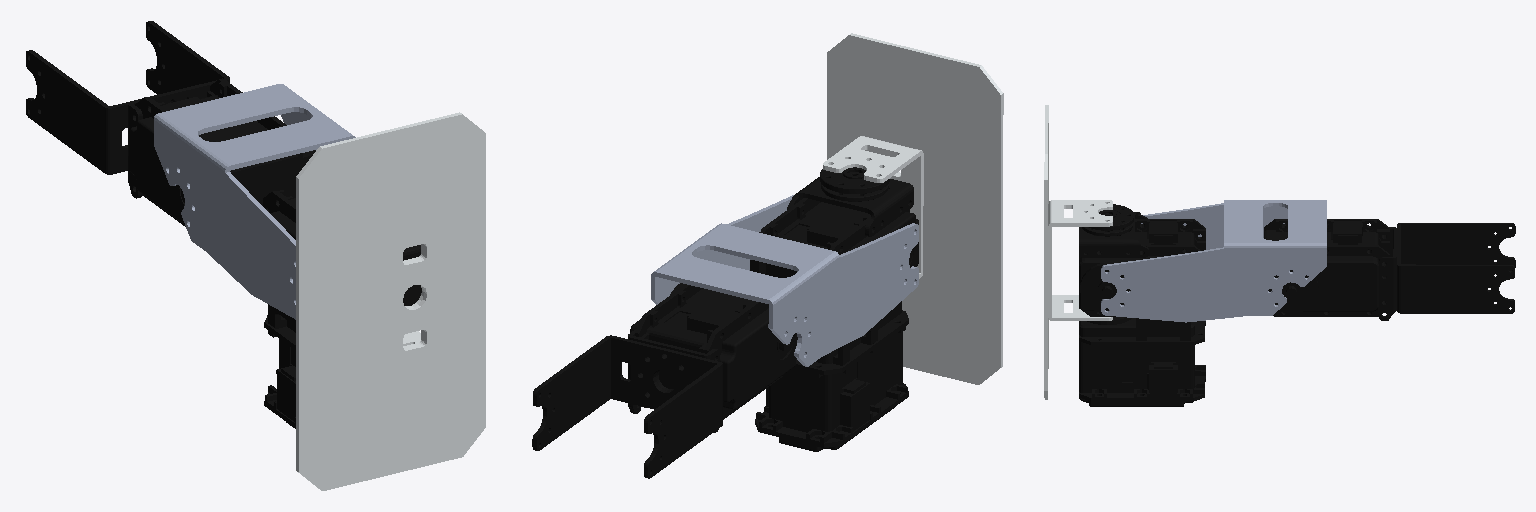
robot.urdf — manipulator3:
<?xml version="1.0" encoding="utf-8"?>
<!-- This URDF was automatically created by SolidWorks to URDF Exporter! Originally created by [author] ([email redacted]) 
     Commit Version: 1.6.0-4-g7f85cfe  Build Version: 1.6.7995.38578
     For more information, please see http://wiki.ros.org/sw_urdf_exporter -->
<robot
  name="manipulator3">
  <link
    name="base_link">
    <inertial>
      <origin
        xyz="0.001787 0.003059 1.7139E-06"
        rpy="0 0 0" />
      <mass
        value="0.072891" />
      <inertia
        ixx="0.00010263"
        ixy="4.5051E-08"
        ixz="6.6644E-08"
        iyy="0.00013288"
        iyz="-1.0017E-10"
        izz="3.332E-05" />
    </inertial>
    <visual>
      <origin
        xyz="0 0 0"
        rpy="0 0 0" />
      <geometry>
        <mesh
          filename="package://manipulator3/meshes/base_link.STL" />
      </geometry>
      <material
        name="">
        <color
          rgba="0.89804 0.91765 0.92941 1" />
      </material>
    </visual>
    <collision>
      <origin
        xyz="0 0 0"
        rpy="0 0 0" />
      <geometry>
        <mesh
          filename="package://manipulator3/meshes/base_link.STL" />
      </geometry>
    </collision>
  </link>
  <link
    name="link_1">
    <inertial>
      <origin
        xyz="0.00022754 0.015425 -0.055147"
        rpy="0 0 0" />
      <mass
        value="0.18009" />
      <inertia
        ixx="7.4616E-05"
        ixy="1.0465E-06"
        ixz="5.6641E-10"
        iyy="4.6834E-05"
        iyz="1.0737E-06"
        izz="7.5197E-05" />
    </inertial>
    <visual>
      <origin
        xyz="0 0 0"
        rpy="0 0 0" />
      <geometry>
        <mesh
          filename="package://manipulator3/meshes/link_1.STL" />
      </geometry>
      <material
        name="">
        <color
          rgba="0.1098 0.1098 0.1098 1" />
      </material>
    </visual>
    <collision>
      <origin
        xyz="0 0 0"
        rpy="0 0 0" />
      <geometry>
        <mesh
          filename="package://manipulator3/meshes/link_1.STL" />
      </geometry>
    </collision>
  </link>
  <joint
    name="joint_1"
    type="revolute">
    <origin
      xyz="0.0096519 0.032315 0.027919"
      rpy="0 -0.00096153 -0.00096153" />
    <parent
      link="base_link" />
    <child
      link="link_1" />
    <axis
      xyz="0 0 1" />
    <limit
      lower="-3.14"
      upper="3.14"
      effort="3.14"
      velocity="3.14" />
  </joint>
  <link
    name="link_2">
    <inertial>
      <origin
        xyz="-0.00932898241718139 0.0613340430799445 -0.0305322255214504"
        rpy="0 0 0" />
      <mass
        value="0.0193582268613659" />
      <inertia
        ixx="3.00375991978183E-05"
        ixy="4.16144713130198E-06"
        ixz="2.1969973404616E-09"
        iyy="1.5433776617761E-05"
        iyz="-3.16936527622628E-09"
        izz="2.14370348461357E-05" />
    </inertial>
    <visual>
      <origin
        xyz="0 0 0"
        rpy="0 0 0" />
      <geometry>
        <mesh
          filename="package://manipulator3/meshes/link_2.STL" />
      </geometry>
      <material
        name="">
        <color
          rgba="0.666666666666667 0.698039215686274 0.768627450980392 1" />
      </material>
    </visual>
    <collision>
      <origin
        xyz="0 0 0"
        rpy="0 0 0" />
      <geometry>
        <mesh
          filename="package://manipulator3/meshes/link_2.STL" />
      </geometry>
    </collision>
  </link>
  <joint
    name="joint_2"
    type="revolute">
    <origin
      xyz="0.0308 -1.6277E-05 -0.03202"
      rpy="-1.5708 1.5708 -1.5708" />
    <parent
      link="link_1" />
    <child
      link="link_2" />
    <axis
      xyz="0 -0.00052794 1" />
    <limit
      lower="-3.14"
      upper="3.14"
      effort="3.14"
      velocity="3.14" />
  </joint>
  <link
    name="link_3">
    <inertial>
      <origin
        xyz="2.84556350642617E-05 0.021875411635608 -0.0255801322315733"
        rpy="0 0 0" />
      <mass
        value="0.0975320096834529" />
      <inertia
        ixx="4.93088846498693E-05"
        ixy="7.60384502705622E-09"
        ixz="-2.30622525888357E-09"
        iyy="2.88361322903035E-05"
        iyz="1.05882453673916E-06"
        izz="3.64191553654559E-05" />
    </inertial>
    <visual>
      <origin
        xyz="0 0 0"
        rpy="0 0 0" />
      <geometry>
        <mesh
          filename="package://manipulator3/meshes/link_3.STL" />
      </geometry>
      <material
        name="">
        <color
          rgba="0.109803921568627 0.109803921568627 0.109803921568627 1" />
      </material>
    </visual>
    <collision>
      <origin
        xyz="0 0 0"
        rpy="0 0 0" />
      <geometry>
        <mesh
          filename="package://manipulator3/meshes/link_3.STL" />
      </geometry>
    </collision>
  </link>
  <joint
    name="joint_3"
    type="revolute">
    <origin
      xyz="0 0.095003 -0.0047498"
      rpy="0 0 0" />
    <parent
      link="link_2" />
    <child
      link="link_3" />
    <axis
      xyz="0 -0.00052794 1" />
    <limit
      lower="-3.14"
      upper="3.14"
      effort="3.14"
      velocity="3.14" />
  </joint>
</robot>

--- Facts derived from the render (not from the file) ---
Views: 3 orthographic renders of the robot side by side, from view 1: azimuth 30°, elevation 25°; view 2: azimuth 150°, elevation 25°; view 3: azimuth 270°, elevation 25°.
Robot: manipulator3 — 4 links, 3 joints (3 revolute); root link base_link; default pose: every joint at zero.
Links seen in each view (by area): view 1: base_link, link_2, link_3, link_1; view 2: base_link, link_3, link_1, link_2; view 3: link_3, link_2, link_1, base_link.
Boxes of the visible links, left/top/right/bottom form: base_link: left=296, top=112, right=485, bottom=490; link_2: left=154, top=84, right=355, bottom=319; link_3: left=26, top=21, right=315, bottom=226; link_1: left=263, top=190, right=421, bottom=428; base_link: left=823, top=33, right=1003, bottom=384; link_3: left=532, top=283, right=797, bottom=478; link_1: left=750, top=167, right=918, bottom=451; link_2: left=651, top=195, right=918, bottom=366; link_3: left=1264, top=219, right=1515, bottom=320; link_2: left=1101, top=200, right=1326, bottom=322; link_1: left=1079, top=204, right=1205, bottom=406; base_link: left=1044, top=105, right=1112, bottom=399.
Bounding box of the posed robot: 0.0807 × 0.2427 × 0.1482 m (x, y, z).
Meshes: 4 distinct files referenced, 4 mesh visuals loaded (4 binary STL).
